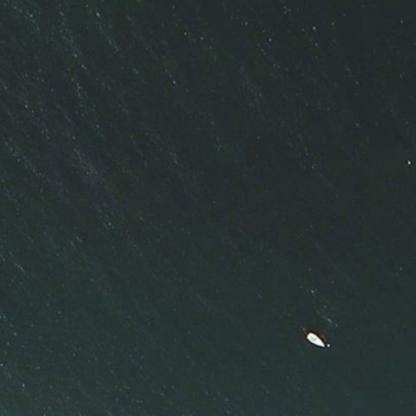ship: (302, 329, 330, 350)
